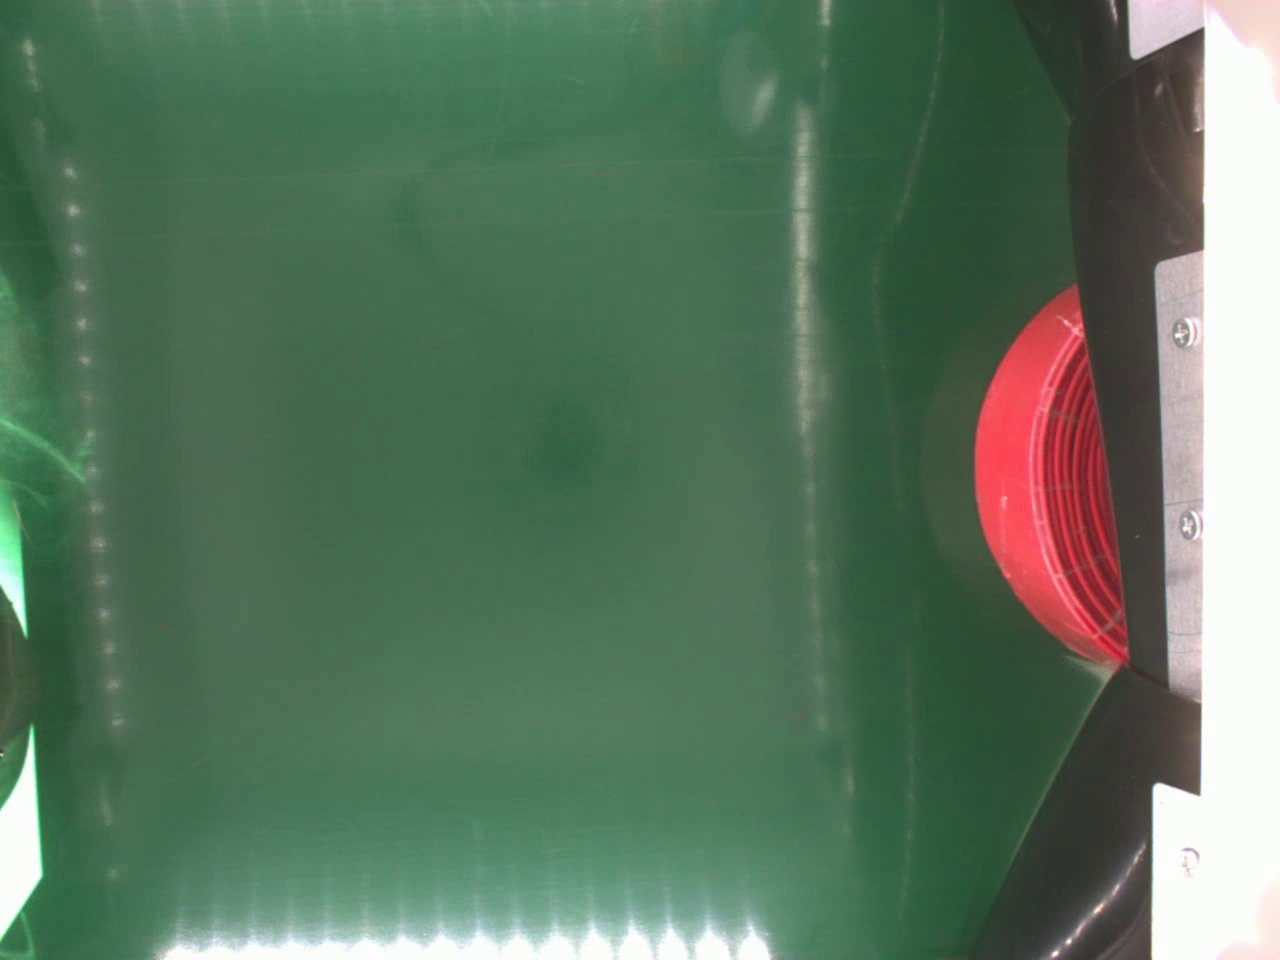red: (975, 283, 1125, 665)
